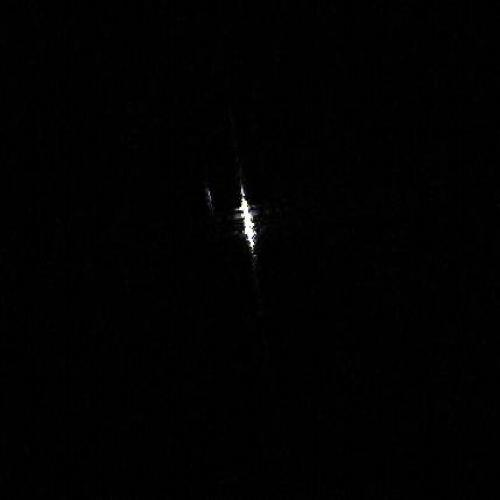ship: (240, 182, 259, 256)
